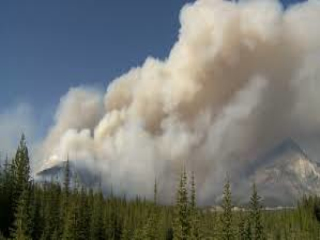smoke: (32, 53, 193, 195), (137, 9, 306, 142)
